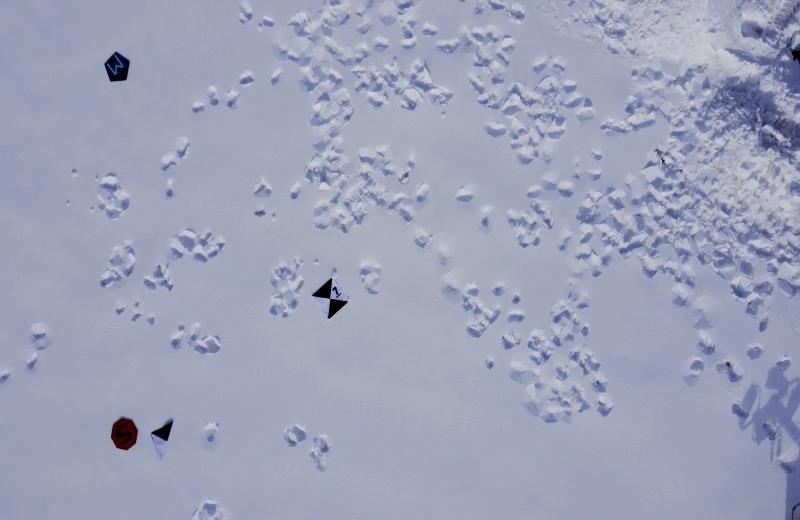Octagon: (110, 416, 139, 451)
Pentagon: (103, 50, 132, 85)
